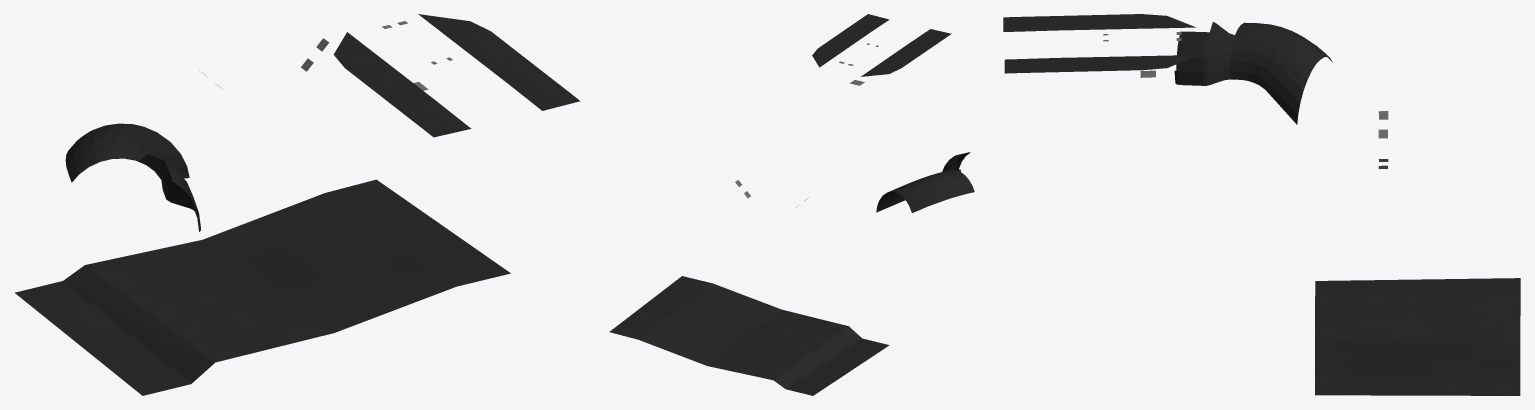
The model's file is T_Upper_Left-42b7e838.glb.
The picture shows the model from 3 angles, left to right: view 1: azimuth 30°, elevation 25°; view 2: azimuth 150°, elevation 25°; view 3: azimuth 270°, elevation 25°; orthographic projection. The views are drawn at different scales.
Parts seen in each view (by area): view 1: world; view 2: world; view 3: world.
Boxes of the visible parts, x1=… form: world: x1=15, y1=14, x2=580, y2=395; world: x1=609, y1=14, x2=974, y2=395; world: x1=1003, y1=14, x2=1520, y2=395.
Size of the model in its own units: 0.0058 by 0.00457 by 0.00698.
Materials: 1 (1 with a texture image).
